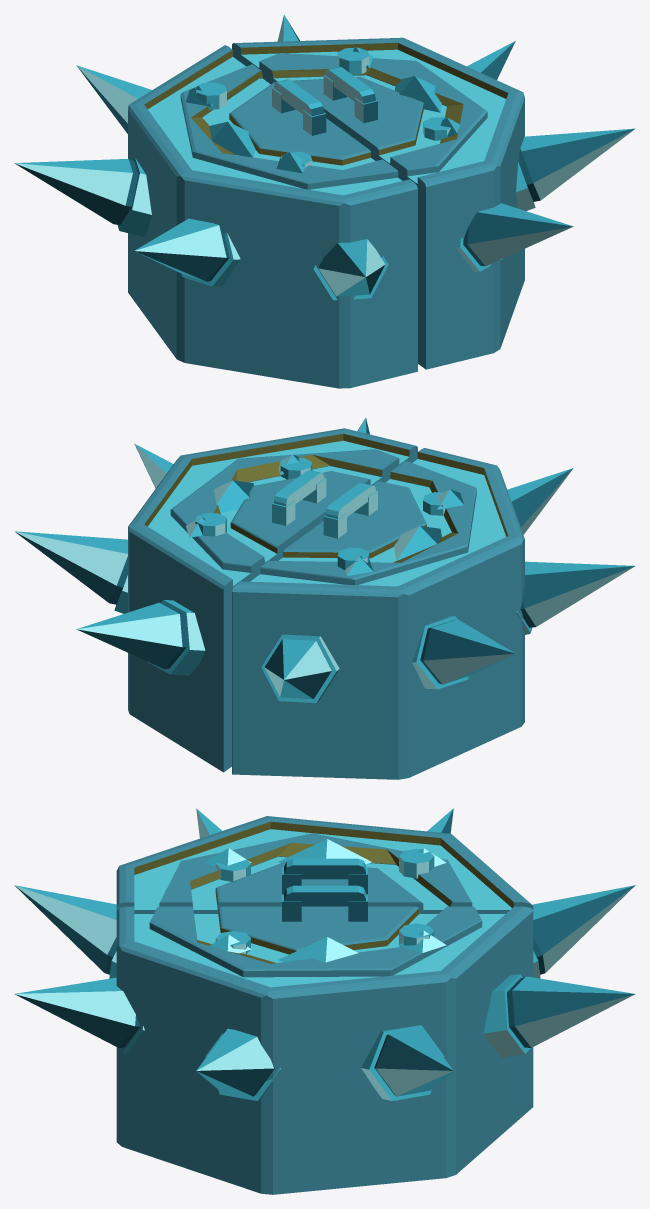
File: diamond_spike_door.fbx
3 views of the same model, one above another, from view 1: azimuth 30°, elevation 25°; view 2: azimuth 150°, elevation 25°; view 3: azimuth 270°, elevation 25° (orthographic). The views are drawn at different scales.
Parts seen in each view (by area): view 1: diamond_spike_door_panel_left, diamond_spike_door_panel_right; view 2: diamond_spike_door_panel_left, diamond_spike_door_panel_right; view 3: diamond_spike_door_panel_right, diamond_spike_door_panel_left.
Part boxes in pixels (<box>): diamond_spike_door_panel_left: <box>14,45,417,388</box>; diamond_spike_door_panel_right: <box>232,15,635,369</box>; diamond_spike_door_panel_left: <box>232,448,635,779</box>; diamond_spike_door_panel_right: <box>14,417,417,772</box>; diamond_spike_door_panel_right: <box>14,885,635,1194</box>; diamond_spike_door_panel_left: <box>14,808,635,978</box>.
Bounding box in the file's own units: 5.64 × 2.29 × 5.64.
1 material, 1 textured.
